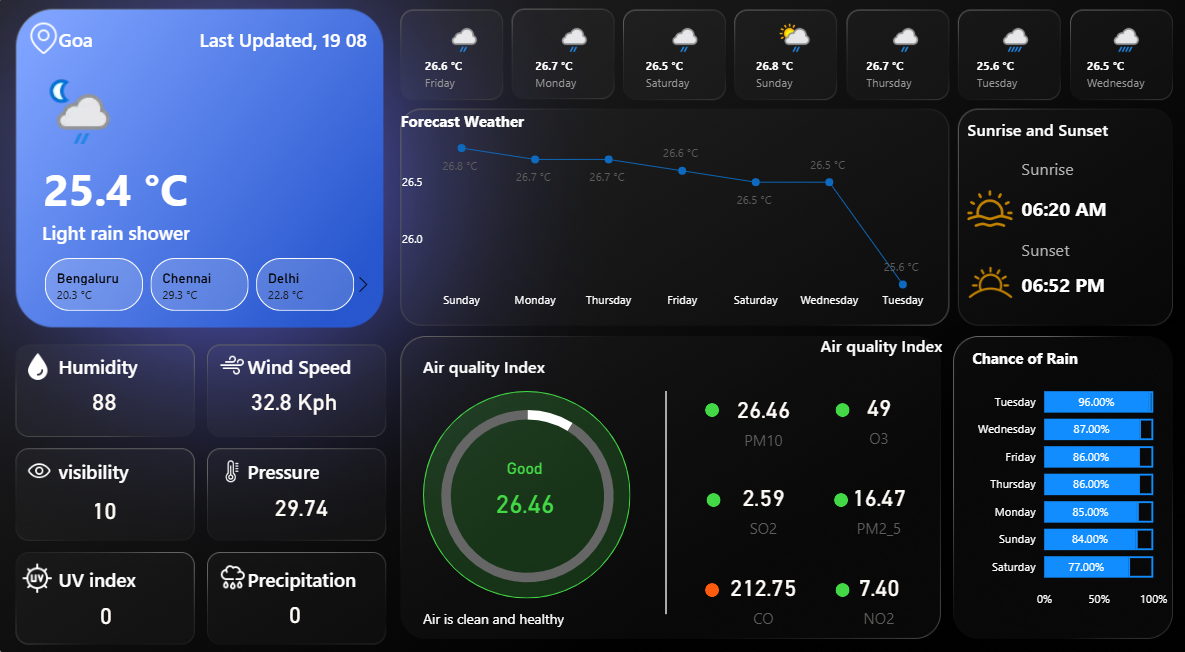

The dashboard page shown, as its layout file describes it:
{"tool":"powerbi","page":{"name":"Page 1","canvas":[1280,720],"ordinal":0},"visuals":[{"type":"shape","box":[458.3,426.7,220,220],"z":0},{"type":"advancedSlicerVisual","fields":{"Values":["Locations.location.name"]},"box":[31.7,280,378.3,66.7],"z":1000},{"type":"shape","box":[55,161.7,168.3,96.7],"z":2000},{"type":"shape","box":[53.3,238.3,230,40],"z":3000},{"type":"shape","box":[71.7,33.3,96.7,40],"z":4000},{"type":"shape","box":[210,33.3,188.3,40],"z":5000},{"type":"image","box":[31.7,30,48.3,43.3],"z":6000},{"type":"cardVisual","fields":{"Data":["Min(current.current.condition.icon)"]},"box":[31.7,73.3,118.3,108.3],"z":7000},{"type":"image","box":[31.7,491.7,38.3,38.3],"z":8000},{"type":"shape","box":[71.7,491.7,96.7,40],"z":9000},{"type":"shape","box":[71.7,380,96.7,40],"z":10000},{"type":"shape","box":[71.7,606.7,96.7,40],"z":11000},{"type":"shape","box":[271.7,380,111.7,40],"z":12000},{"type":"shape","box":[271.7,491.7,96.7,40],"z":13000},{"type":"shape","box":[271.7,606.7,126.7,40],"z":14000},{"type":"image","box":[28.3,380,41.7,40],"z":15000},{"type":"image","box":[26.7,603.3,43.3,43.3],"z":16000},{"type":"image","box":[238.3,493.3,33.3,36.7],"z":17000},{"type":"image","box":[235,603.3,41.7,41.7],"z":18000},{"type":"image","box":[236.7,380,36.7,36.7],"z":19000},{"type":"card","fields":{"Values":["Sum(current.current.humidity)"]},"box":[90,400,58.3,75],"z":20000},{"type":"card","fields":{"Values":["Sum(current.current.precip_in)"]},"box":[293.3,625,58.3,75],"z":21000},{"type":"card","fields":{"Values":["Sum(current.current.pressure_in)"]},"box":[290,511.7,78.3,75],"z":22000},{"type":"card","fields":{"Values":["Sum(current.current.uv)"]},"box":[91.7,626.7,58.3,75],"z":23000},{"type":"card","fields":{"Values":["Sum(current.current.vis_km)"]},"box":[90,515,58.3,75],"z":24000},{"type":"card","fields":{"Values":["_Measures.Wind_speed"]},"box":[260,400,123.3,75],"z":25000},{"type":"advancedSlicerVisual","fields":{"Values":["forcast_day.Day_Name"]},"box":[442.9,25.7,821.4,92.9],"z":26000},{"type":"lineChart","title":"Forecast Weather","fields":{"Y":["Sum(forcast_day.forecast.forecastday.day.avgtemp_c)"],"Category":["forcast_day.Day_Name"]},"box":[430,128.3,573.3,218.3],"z":27000},{"type":"shape","box":[1035,128.3,183.3,40],"z":28000},{"type":"shape","box":[1092.8,208.9,135,48.3],"z":29000},{"type":"shape","box":[1093.3,290,135,46.7],"z":30000},{"type":"shape","box":[1093.3,170,183.3,40],"z":31000},{"type":"shape","box":[1093.3,256.7,183.3,40],"z":32000},{"type":"image","box":[1026.7,203.3,66.7,58.3],"z":33000},{"type":"image","box":[1013.3,275,93.3,71.7],"z":34000},{"type":"hundredPercentStackedBarChart","title":"Chance of Rain","fields":{"Y":["Sum(forcast_day.forecast.forecastday.day.daily_chance_of_rain)","current.Left_Value _rain"],"Category":["forcast_day.Day_Name"]},"box":[1035,380,216.7,285],"z":35000},{"type":"shape","box":[458.3,380,183.3,40],"z":36000},{"type":"card","fields":{"Values":["Sum(current.current.air_quality.pm10)"]},"box":[756.7,418.3,123.3,75],"z":37000},{"type":"card","fields":{"Values":["Sum(current.current.air_quality.no2)"]},"box":[880,608.3,123.3,75],"z":38000},{"type":"card","fields":{"Values":["Sum(current.current.air_quality.o3)"]},"box":[880,416.7,123.3,75],"z":39000},{"type":"card","fields":{"Values":["Sum(current.current.air_quality.pm2_5)"]},"box":[880,511.7,123.3,75],"z":40000},{"type":"card","fields":{"Values":["Sum(current.current.air_quality.so2)"]},"box":[756.7,511.7,123.3,75],"z":41000},{"type":"card","fields":{"Values":["Sum(current.current.air_quality.co)"]},"box":[756.7,608.3,123.3,75],"z":42000},{"type":"shape","box":[756.7,438.3,15,15],"z":43000},{"type":"shape","box":[758.3,535,15,15],"z":44000},{"type":"shape","box":[756.7,630,15,15],"z":45000},{"type":"shape","box":[895,438.3,15,15],"z":46000},{"type":"shape","box":[895,630,15,15],"z":47000},{"type":"shape","box":[893.3,535,15,15],"z":48000},{"type":"shape","box":[628.3,426.7,175,236.7],"z":49000},{"type":"card","fields":{"Values":["Sum(current.current.air_quality.pm10)"]},"box":[505,498.3,123.3,75],"z":50000},{"type":"donutChart","fields":{"Y":["Sum(current.current.air_quality.pm10)","_Measures.Left_value_pm10"]},"box":[398.3,418.3,341.7,238.3],"z":51000},{"type":"shape","box":[880,358.3,183.3,40],"z":51001},{"type":"shape","box":[458.3,646.7,281.7,40],"z":51002}]}

Visuals, with their boxes in screenshot pixels (x1, y1, x2, y2), scaled from the page's 1280x720 canvas onto the 1185x652 screenshot:
shape: region(424, 386, 628, 586)
advancedSlicerVisual - Locations.location.name: region(29, 254, 380, 314)
shape: region(51, 146, 207, 234)
shape: region(49, 216, 262, 252)
shape: region(66, 30, 156, 66)
shape: region(194, 30, 369, 66)
image: region(29, 27, 74, 66)
cardVisual - Min(current.current.condition.icon): region(29, 66, 139, 164)
image: region(29, 445, 65, 480)
shape: region(66, 445, 156, 481)
shape: region(66, 344, 156, 380)
shape: region(66, 549, 156, 586)
shape: region(252, 344, 355, 380)
shape: region(252, 445, 341, 481)
shape: region(252, 549, 369, 586)
image: region(26, 344, 65, 380)
image: region(25, 546, 65, 586)
image: region(221, 447, 251, 480)
image: region(218, 546, 256, 584)
image: region(219, 344, 253, 377)
card - Sum(current.current.humidity): region(83, 362, 137, 430)
card - Sum(current.current.precip_in): region(272, 566, 326, 634)
card - Sum(current.current.pressure_in): region(268, 463, 341, 531)
card - Sum(current.current.uv): region(85, 568, 139, 635)
card - Sum(current.current.vis_km): region(83, 466, 137, 534)
card - _Measures.Wind_speed: region(241, 362, 355, 430)
advancedSlicerVisual - forcast_day.Day_Name: region(410, 23, 1170, 107)
"Forecast Weather" lineChart: region(398, 116, 929, 314)
shape: region(958, 116, 1128, 152)
shape: region(1012, 189, 1137, 233)
shape: region(1012, 263, 1137, 305)
shape: region(1012, 154, 1182, 190)
shape: region(1012, 232, 1182, 269)
image: region(950, 184, 1012, 237)
image: region(938, 249, 1024, 314)
"Chance of Rain" hundredPercentStackedBarChart: region(958, 344, 1159, 602)
shape: region(424, 344, 594, 380)
card - Sum(current.current.air_quality.pm10): region(701, 379, 815, 447)
card - Sum(current.current.air_quality.no2): region(815, 551, 929, 619)
card - Sum(current.current.air_quality.o3): region(815, 377, 929, 445)
card - Sum(current.current.air_quality.pm2_5): region(815, 463, 929, 531)
card - Sum(current.current.air_quality.so2): region(701, 463, 815, 531)
card - Sum(current.current.air_quality.co): region(701, 551, 815, 619)
shape: region(701, 397, 714, 410)
shape: region(702, 484, 716, 498)
shape: region(701, 570, 714, 584)
shape: region(829, 397, 842, 410)
shape: region(829, 570, 842, 584)
shape: region(827, 484, 841, 498)
shape: region(582, 386, 744, 601)
card - Sum(current.current.air_quality.pm10): region(468, 451, 582, 519)
donutChart - Sum(current.current.air_quality.pm10) x _Measures.Left_value_pm10: region(369, 379, 685, 595)
shape: region(815, 324, 984, 361)
shape: region(424, 586, 685, 622)
